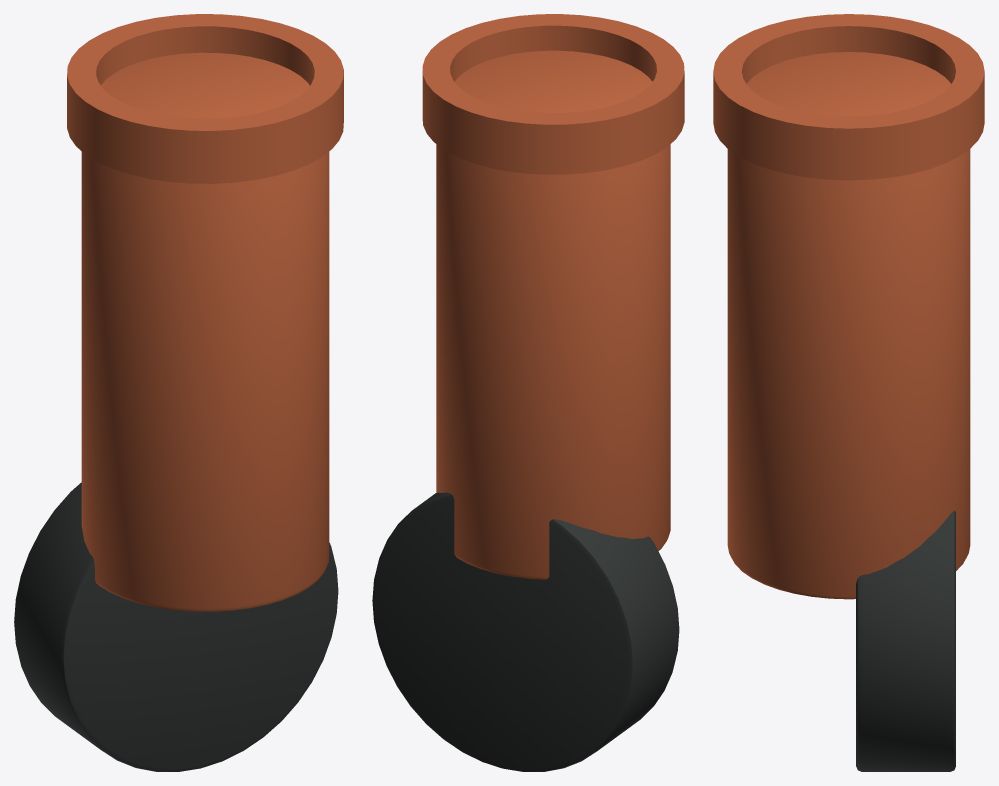
Rendered from electric_planer_chip_chute.glb.
The picture shows the model from 3 angles, left to right: view 1: azimuth 30°, elevation 25°; view 2: azimuth 150°, elevation 25°; view 3: azimuth 270°, elevation 25°; orthographic projection. The views are drawn at different scales.
Visible parts, largest first — view 1: electric_planer_chip_chute; view 2: electric_planer_chip_chute; view 3: electric_planer_chip_chute.
Boxes of the visible parts, x1,y1,x2,y2 form: electric_planer_chip_chute: (14,14,343,771); electric_planer_chip_chute: (372,14,684,771); electric_planer_chip_chute: (713,14,984,771).
Size of the model in its own units: 0.044 by 0.106 by 0.038.
